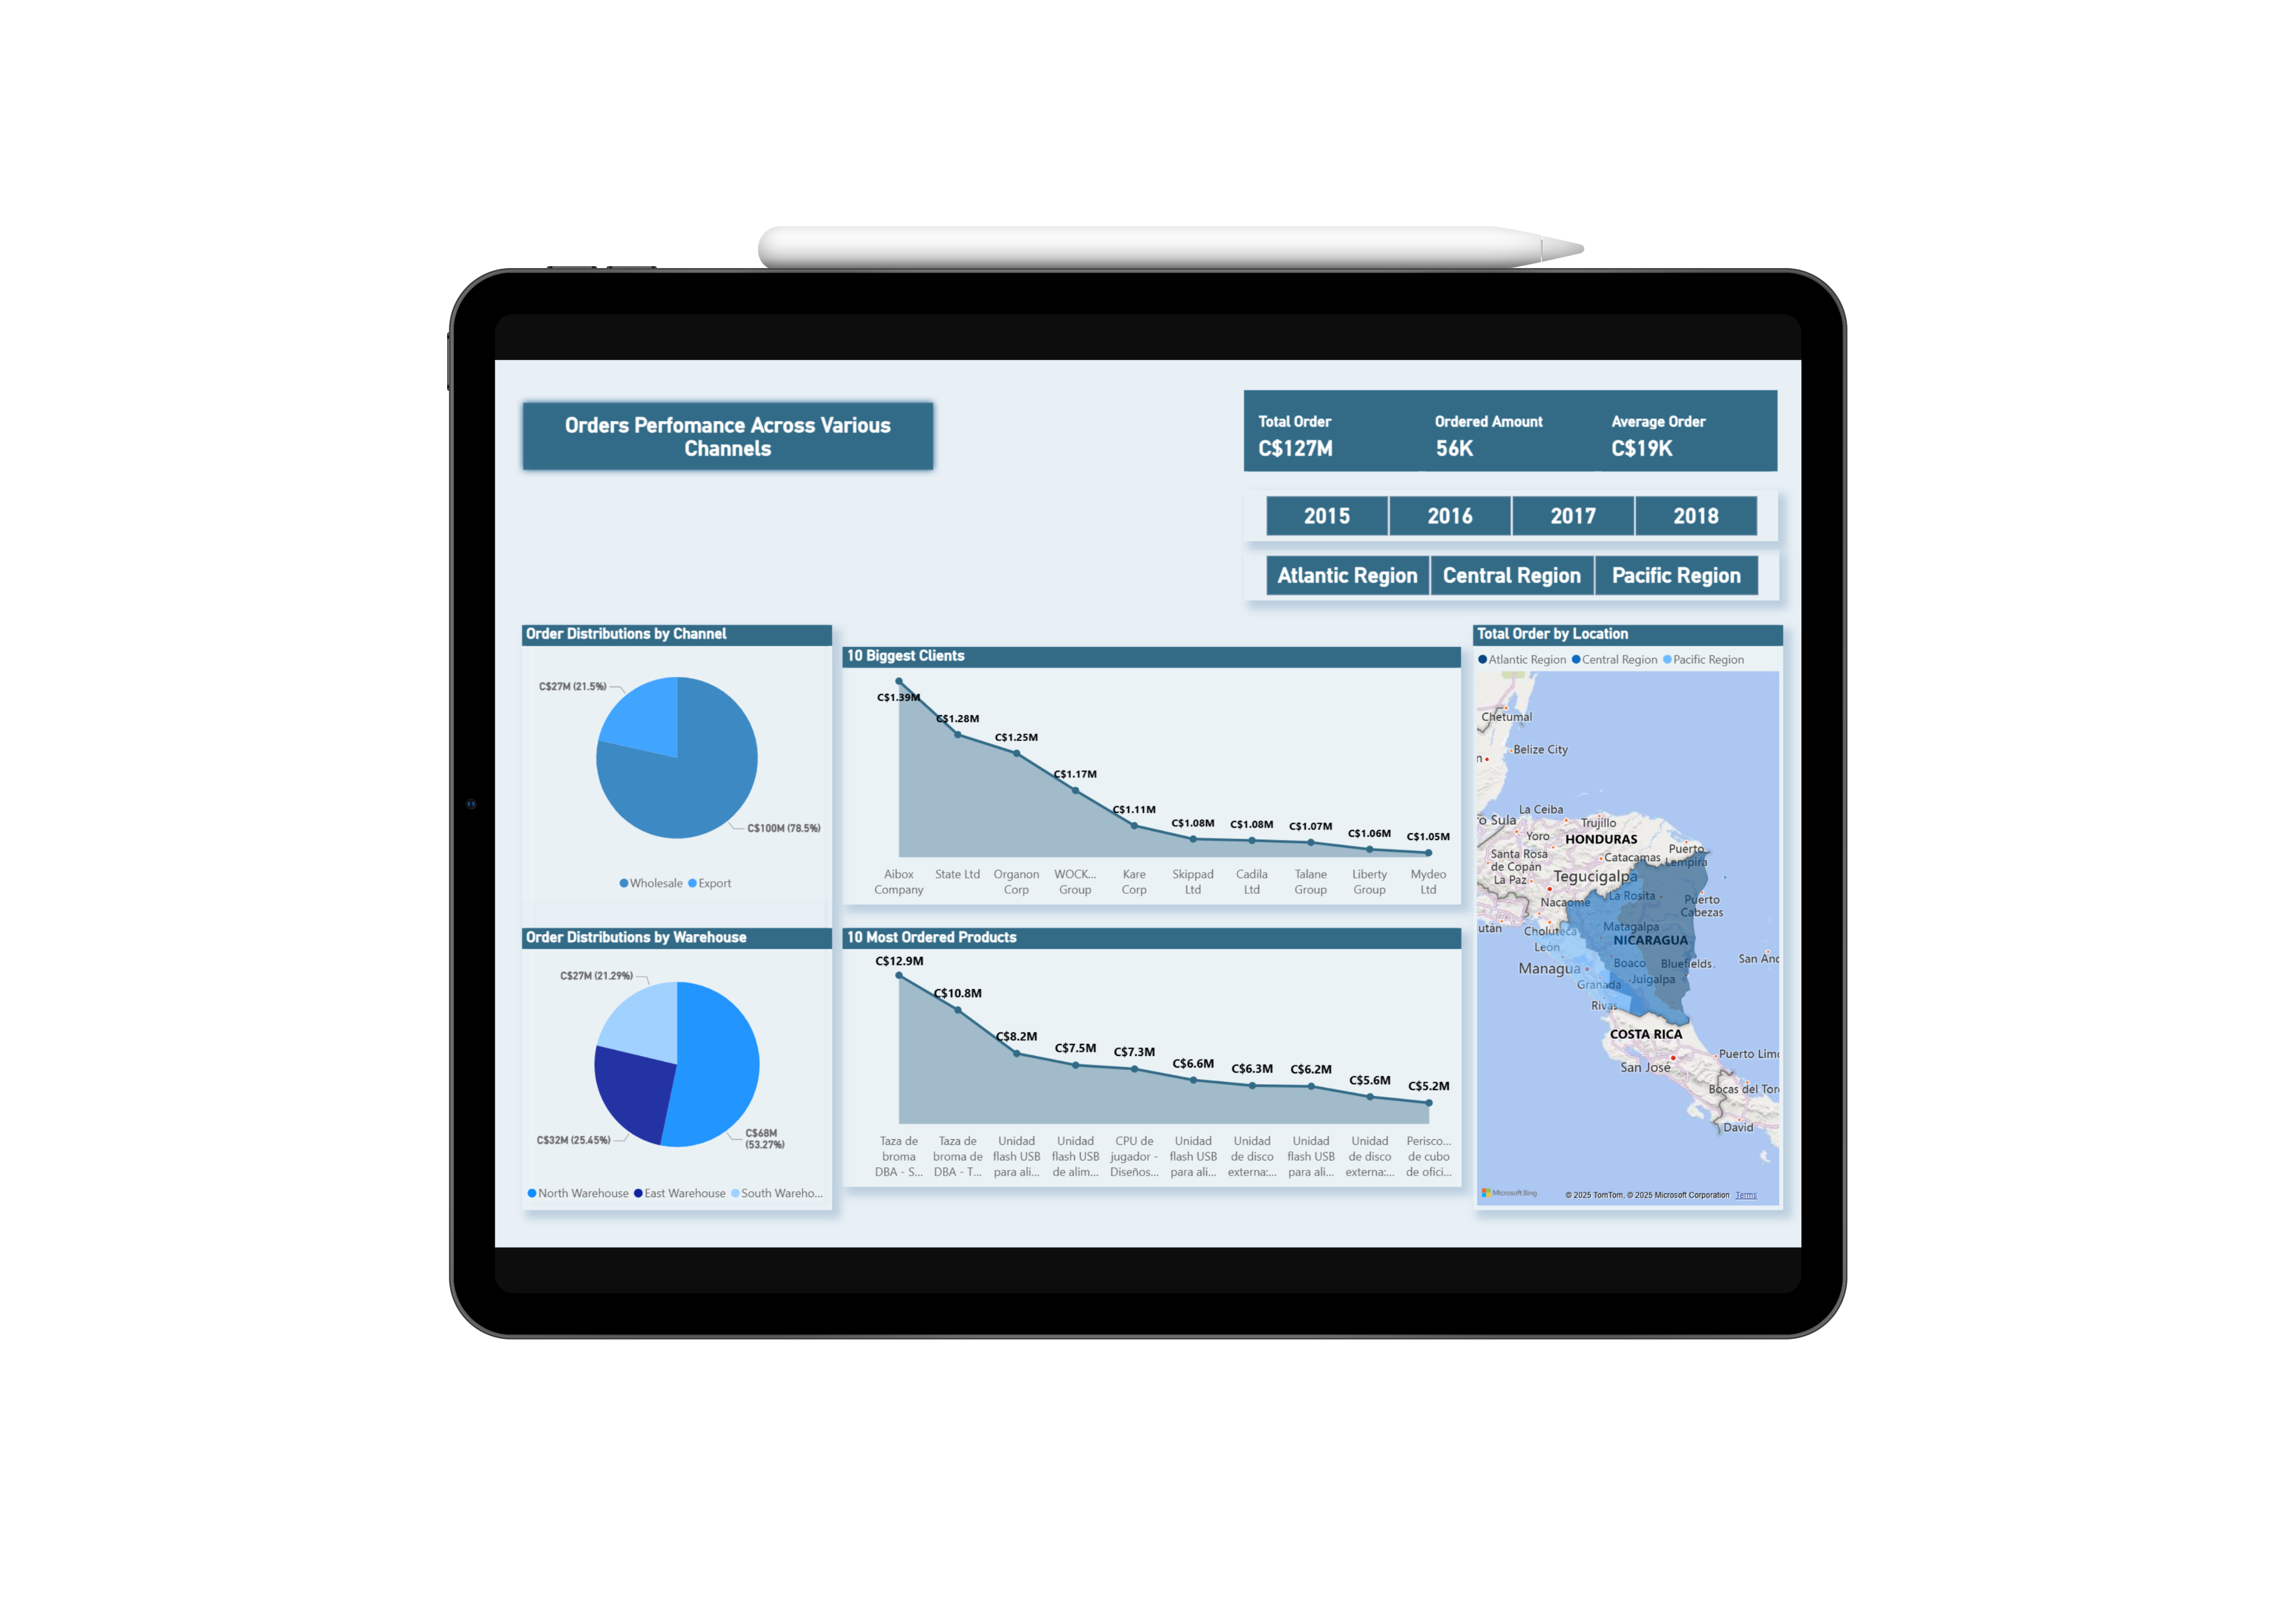

This screenshot's page, from the dashboard's own definition file:
{"tool":"powerbi","page":{"name":"Report","canvas":[1550,1050],"ordinal":0},"visuals":[{"type":"actionButton","box":[1177.3,58.6,132.9,54.3],"z":0},{"type":"shape","box":[38.1,308.8,356.5,672.2],"z":1000},{"type":"shape","box":[868.3,38.3,613.3,93.3],"z":2000},{"type":"filledMap","title":"Total Order by Location","fields":{"Series":["Regiones.Territorio"],"Category":["Regiones.Ubicación_Completa"]},"box":[1132.2,308.8,356.5,672.2],"z":3000},{"type":"pieChart","title":"Order Distributions by Channel","fields":{"Category":["Ventas.Canal"],"Y":["Ventas.Total_orden"]},"box":[38.1,308.8,356.5,315.7],"z":5000},{"type":"areaChart","title":"10 Biggest Clients","fields":{"Category":["Clientes.Clientes_Nombres"],"Y":["Ventas.Total_orden","select"]},"box":[406.9,333.3,711,296],"z":6000},{"type":"actionButton","box":[31.2,45.2,487.2,92.9],"z":7000},{"type":"slicer","fields":{"Values":["Ventas.Year"]},"box":[868.9,153.1,613.7,58.5],"z":8000},{"type":"slicer","fields":{"Values":["Regiones.Territorio"]},"box":[868.9,221.1,615.1,58.5],"z":9000},{"type":"cardVisual","fields":{"Data":["Ventas.Total_orden","Ventas.Cantidad_Orden","Avg(Ventas.Total_orden)1"]},"box":[868.9,45.6,613.7,92.5],"z":10000},{"type":"areaChart","title":"10 Most Ordered Products ","fields":{"Category":["Productos.Nombre_Producto"],"Y":["Ventas.Total_orden"]},"box":[407.2,657.3,711.5,297.2],"z":11000},{"type":"pieChart","title":"Order Distributions by Warehouse ","fields":{"Y":["Ventas.Total_orden"],"Category":["Código_Bodega.Bodega"]},"box":[38.1,657.1,356.5,323.9],"z":12000}]}

Visuals, with their boxes on the page's 1550x1050 design canvas (x1, y1, x2, y2). These are canvas units, not pixel positions in the 2296x1607 screenshot, which may show the page scaled, cropped or inside an application window:
actionButton: <box>1177,59,1310,113</box>
shape: <box>38,309,395,981</box>
shape: <box>868,38,1482,132</box>
"Total Order by Location" filledMap: <box>1132,309,1489,981</box>
"Order Distributions by Channel" pieChart: <box>38,309,395,624</box>
"10 Biggest Clients" areaChart: <box>407,333,1118,629</box>
actionButton: <box>31,45,518,138</box>
slicer - Ventas.Year: <box>869,153,1483,212</box>
slicer - Regiones.Territorio: <box>869,221,1484,280</box>
cardVisual - Ventas.Total_orden x Ventas.Cantidad_Orden: <box>869,46,1483,138</box>
"10 Most Ordered Products " areaChart: <box>407,657,1119,954</box>
"Order Distributions by Warehouse " pieChart: <box>38,657,395,981</box>
